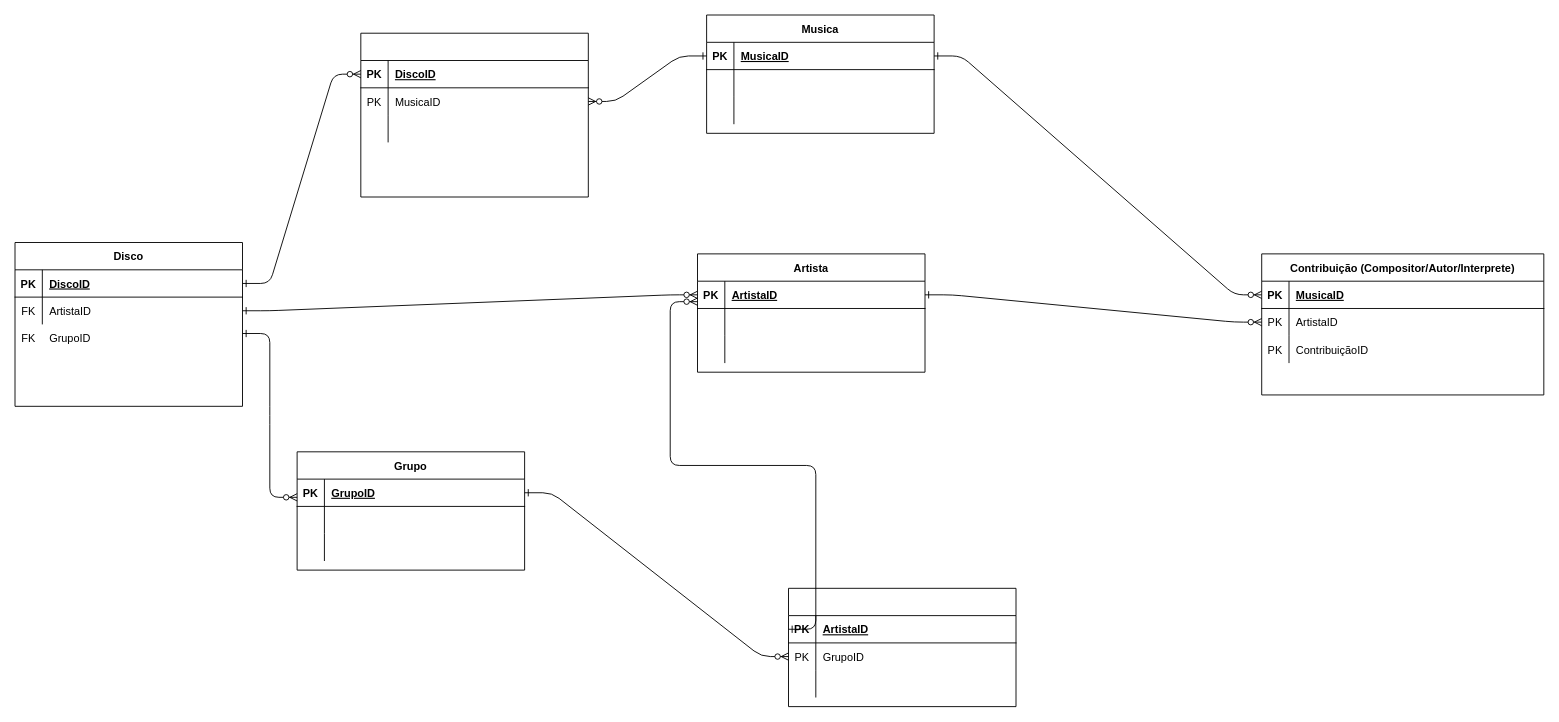
Some shapes in this 1559 by 722 pixel diagram are drawn without their labels. Each missing label, with the box of its shape:
Membro do Grupo: (788, 587, 1016, 707)
Tracklist: (360, 32, 588, 197)
